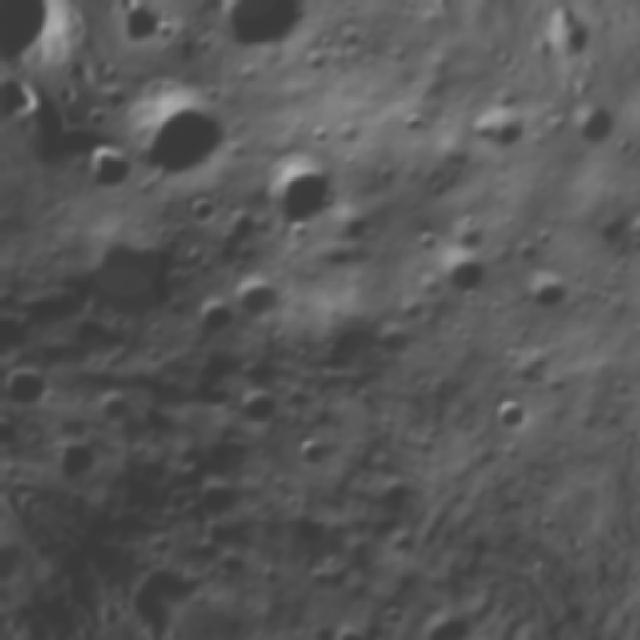crater: (124, 80, 238, 194), (248, 144, 341, 241), (203, 0, 315, 62), (225, 260, 293, 326), (430, 244, 496, 308), (66, 132, 132, 194), (0, 349, 57, 414), (518, 264, 578, 322), (550, 101, 613, 156), (478, 389, 537, 443), (0, 219, 29, 323), (183, 290, 237, 339), (286, 422, 337, 473), (176, 186, 222, 234), (122, 7, 163, 56), (0, 404, 31, 468), (400, 218, 443, 262), (392, 102, 432, 141), (297, 46, 332, 80), (620, 213, 640, 264), (321, 0, 385, 9)
